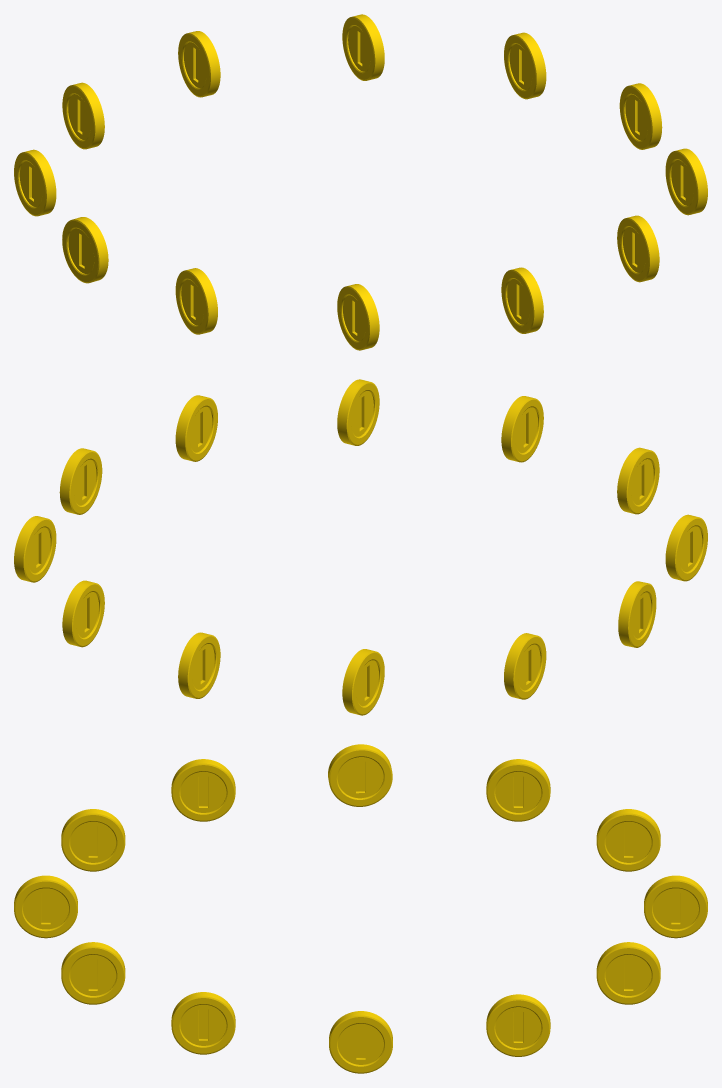
File: Coin_Kreis.glb
3 views of the same model, one above another, from view 1: azimuth 30°, elevation 25°; view 2: azimuth 150°, elevation 25°; view 3: azimuth 270°, elevation 25° (orthographic). The views are drawn at different scales.
Parts seen in each view (by area): view 1: Zylinder, Zylinder.002, Zylinder.003, Zylinder.006, Zylinder.007, Zylinder.008, Zylinder.009, Zylinder.005, Zylinder.010, Zylinder.011, Zylinder.004, Zylinder.001; view 2: Zylinder.002, Zylinder.003, Zylinder.004, Zylinder.010, Zylinder.011, Zylinder.005, Zylinder.008, Zylinder.009, Zylinder.006, Zylinder.007, Zylinder.001, Zylinder; view 3: Zylinder.007, Zylinder.005, Zylinder.006, Zylinder.008, Zylinder.004, Zylinder.011, Zylinder.009, Zylinder.010, Zylinder.001, Zylinder, Zylinder.002, Zylinder.003.
Boxes of the visible parts, x1,y1,x2,y2 form: Zylinder: [62, 217, 108, 283]; Zylinder.002: [178, 31, 220, 97]; Zylinder.003: [501, 267, 543, 333]; Zylinder.006: [14, 149, 56, 216]; Zylinder.007: [665, 148, 707, 215]; Zylinder.008: [342, 14, 384, 80]; Zylinder.009: [337, 284, 379, 350]; Zylinder.005: [504, 32, 546, 99]; Zylinder.010: [62, 82, 104, 149]; Zylinder.011: [617, 215, 659, 282]; Zylinder.004: [175, 268, 217, 334]; Zylinder.001: [619, 83, 662, 149]; Zylinder.002: [178, 632, 220, 698]; Zylinder.003: [501, 396, 543, 462]; Zylinder.004: [665, 514, 707, 581]; Zylinder.010: [342, 649, 384, 715]; Zylinder.011: [337, 379, 379, 445]; Zylinder.005: [14, 516, 56, 582]; Zylinder.008: [62, 580, 104, 647]; Zylinder.009: [617, 447, 659, 514]; Zylinder.006: [504, 633, 546, 699]; Zylinder.007: [175, 395, 217, 461]; Zylinder.001: [59, 448, 102, 514]; Zylinder: [618, 581, 656, 647]; Zylinder.007: [171, 992, 235, 1054]; Zylinder.005: [486, 994, 550, 1056]; Zylinder.006: [486, 759, 550, 821]; Zylinder.008: [596, 942, 660, 1004]; Zylinder.004: [171, 759, 235, 821]; Zylinder.011: [61, 942, 125, 1004]; Zylinder.009: [61, 809, 125, 871]; Zylinder.010: [596, 809, 660, 871]; Zylinder.001: [329, 1011, 392, 1073]; Zylinder: [328, 744, 392, 806]; Zylinder.002: [644, 875, 707, 938]; Zylinder.003: [14, 875, 77, 938].
Bounding box in the file's own units: 16.25 × 1.69 × 17.63.
